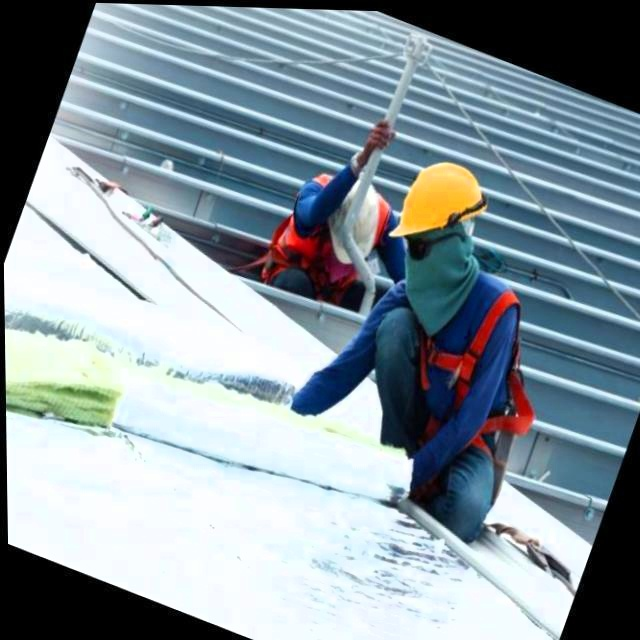safety belt: (388, 279, 532, 445), (281, 184, 379, 309)
